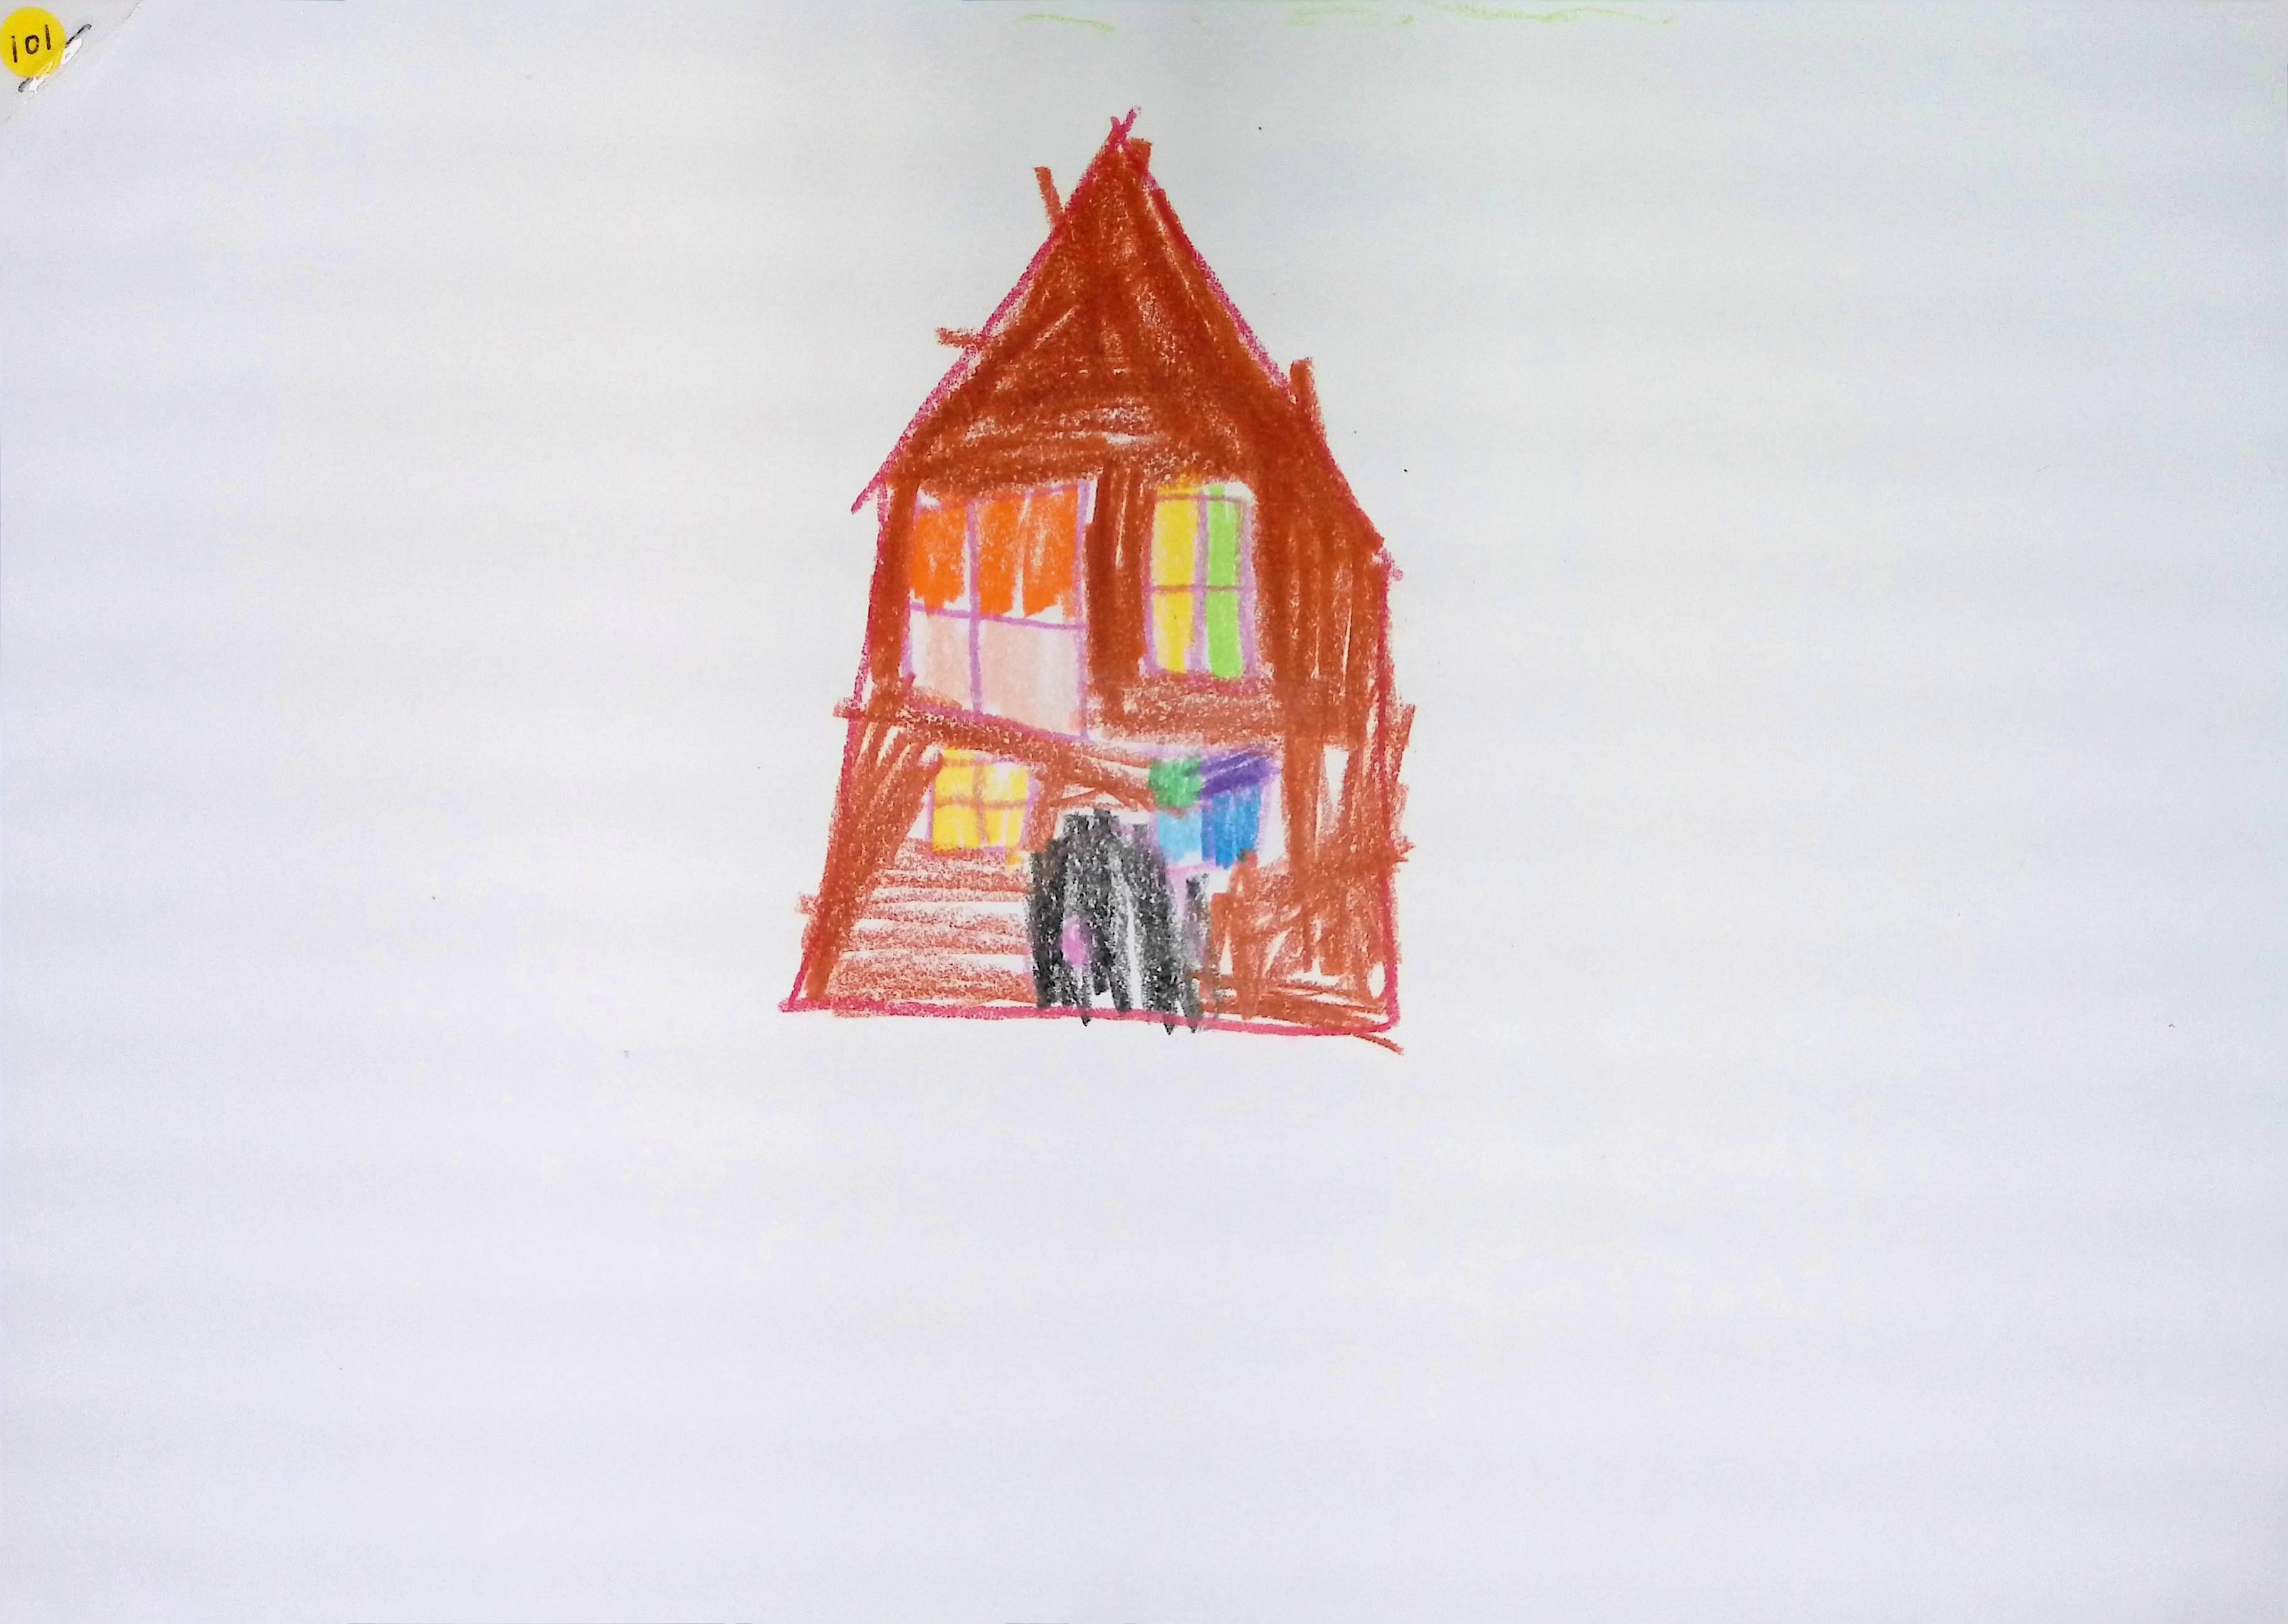door: (1025, 817, 1191, 1018)
house: (784, 114, 1411, 1042)
roof: (849, 107, 1413, 599)
wall: (812, 464, 1395, 1025)
window: (894, 482, 1082, 747), (1153, 492, 1258, 684), (1158, 747, 1283, 872), (928, 758, 1025, 852)
